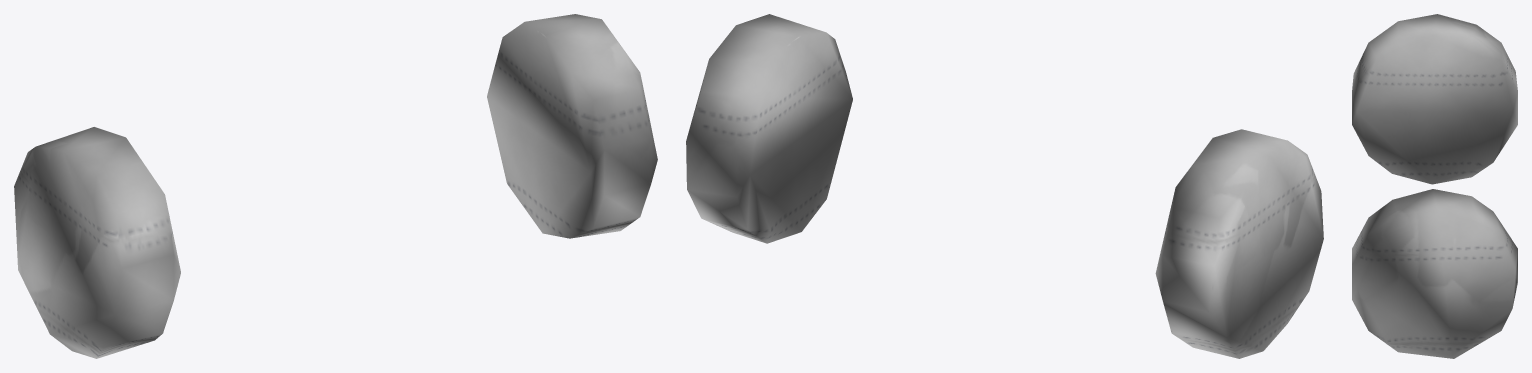
The model's file is Head_C2.fbx.
3 renders of one model, left to right at view 1: azimuth 30°, elevation 25°; view 2: azimuth 150°, elevation 25°; view 3: azimuth 270°, elevation 25°, orthographic. The views are drawn at different scales.
Visible parts, largest first — view 1: Civ_Auriculares_Head_C2; view 2: Civ_Auriculares_Head_C2; view 3: Civ_Auriculares_Head_C2.
Part boxes in pixels (x1=…): Civ_Auriculares_Head_C2: x1=14, y1=14, x2=657, y2=358; Civ_Auriculares_Head_C2: x1=686, y1=14, x2=1323, y2=358; Civ_Auriculares_Head_C2: x1=1352, y1=14, x2=1517, y2=358.
Bounding box in the file's own units: 1.59 × 0.5623 × 0.5571.
